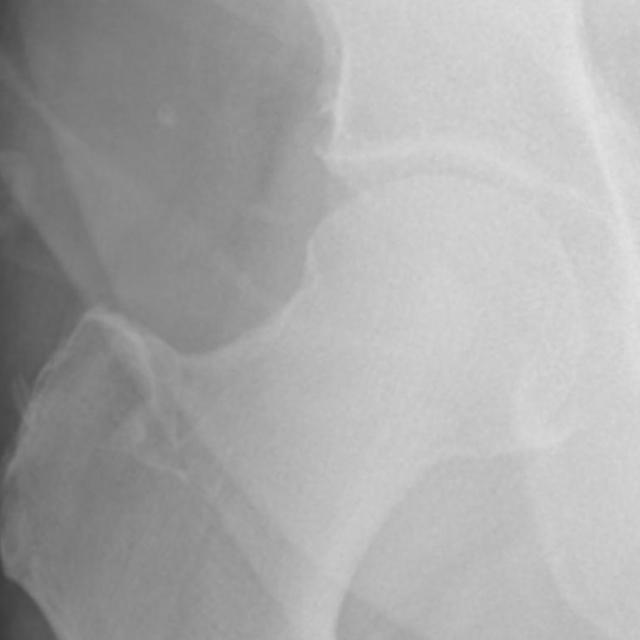Fitted_femural_head: (304, 175, 432, 304)
